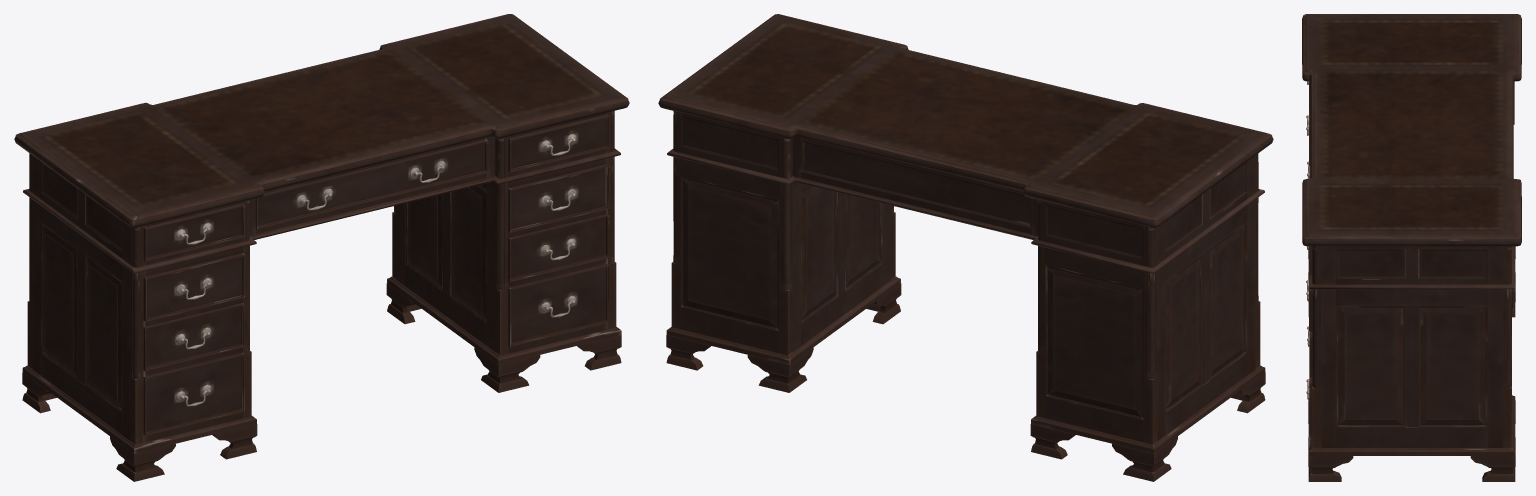
The model's file is antique-desk-c491f6.glb.
3 views of the same model, side by side, from view 1: azimuth 30°, elevation 25°; view 2: azimuth 150°, elevation 25°; view 3: azimuth 270°, elevation 25° (orthographic). The views are drawn at different scales.
Visible parts, largest first — view 1: PropMesh; view 2: PropMesh; view 3: PropMesh.
Part boxes in pixels (left/top/right/bottom): PropMesh: left=14, top=14, right=629, bottom=481; PropMesh: left=658, top=14, right=1273, bottom=481; PropMesh: left=1302, top=14, right=1521, bottom=481.
Size of the model in its own units: 1.79 by 0.9116 by 0.736.
1 material, 1 textured.
